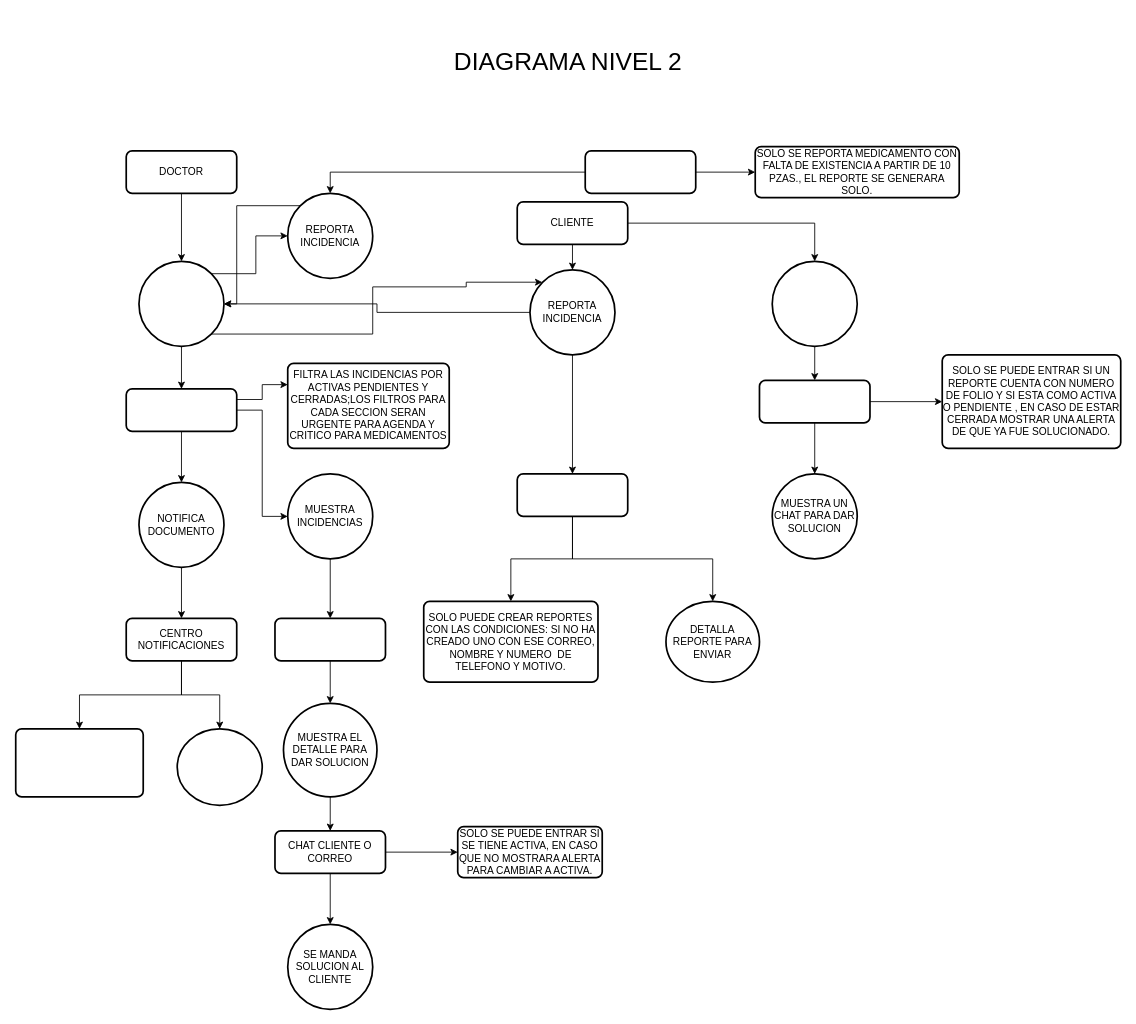
Some shapes in this 1136 by 1024 pixel diagram are drawn without their labels. The shapes that lost their labels are listed below. From the top down, each one's centre as x and y in pixels, then its label:
At (640,172): "ALMACEN".
At (181,303): "RESPUESTA SOLUCION".
At (814,303): "LA CONSULTA SOLUCION".
At (181,410): "DASHBOARD".
At (814,401): "CHAT".
At (572,495): "SE CREA REPORTE".
At (330,639): "DETALLA INCIDENCIA".
At (79,762): "SOLO MUESTRA LOS MEDICAMENTOS CON 10 O MENOS DE EXISTENCIA".
At (219,767): "MUESTRA NOTIFICACIONES".
